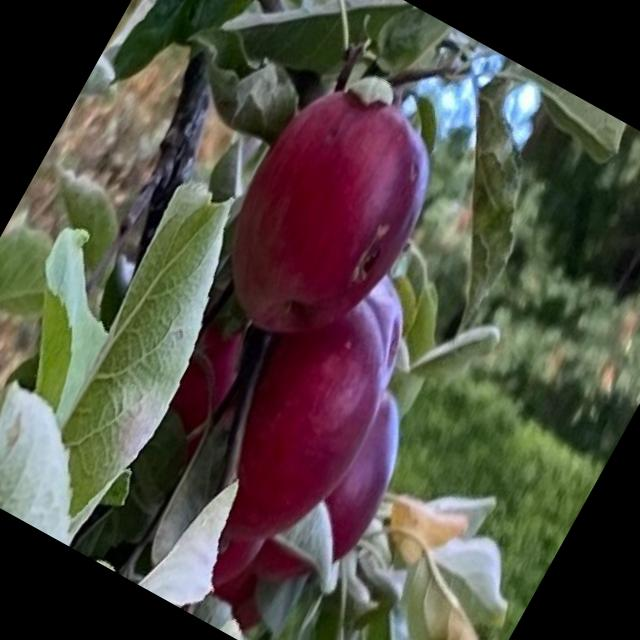Apples: (197, 68, 459, 366), (192, 273, 422, 551), (247, 378, 428, 608), (159, 302, 263, 434), (332, 280, 428, 390), (198, 518, 268, 594)
